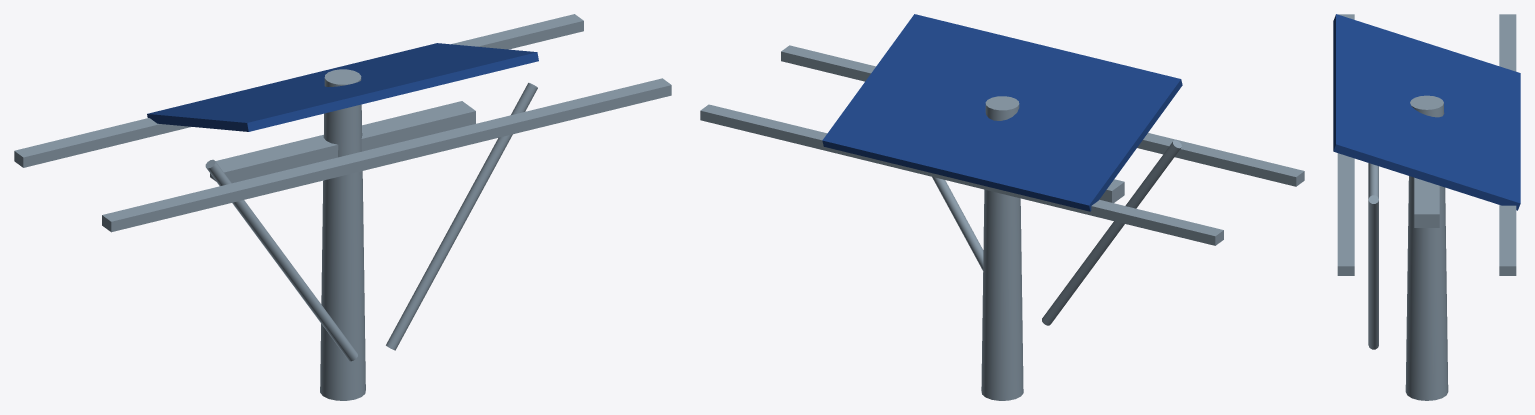
The model's file is unirac-ground-fixed-tilt.glb.
3 views of the same model, side by side, from view 1: azimuth 30°, elevation 25°; view 2: azimuth 150°, elevation 25°; view 3: azimuth 270°, elevation 25° (orthographic). The views are drawn at different scales.
Size of the model in its own units: 2.8 by 1.62 by 0.8807.
